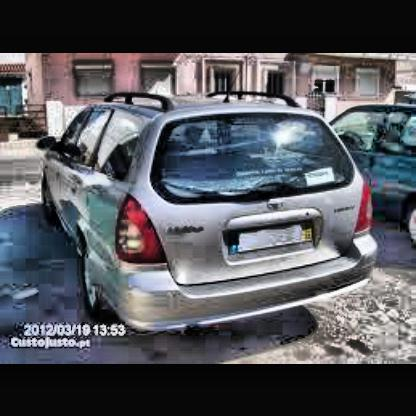Daewoo Nubira Wagon 2002: (38, 92, 381, 337)
